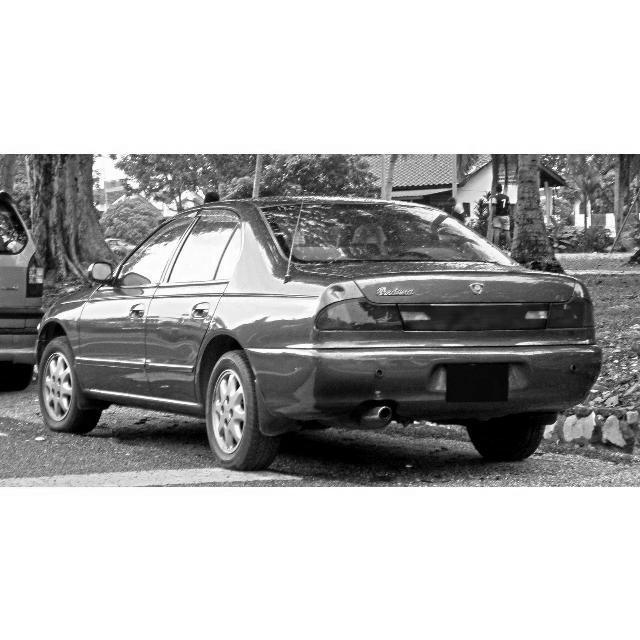quaterpanel-dent: (297, 265, 371, 341)
